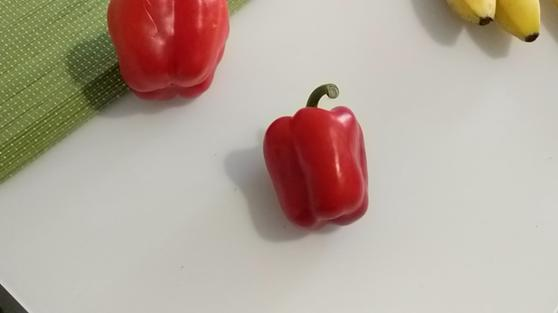pepper: (265, 81, 375, 233), (106, 1, 235, 99)
